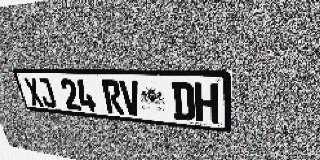2: (59, 78, 82, 110)
4: (74, 79, 97, 112)
D: (171, 82, 195, 121)
H: (194, 82, 219, 123)
J: (35, 78, 57, 108)
R: (101, 80, 124, 114)
V: (119, 80, 142, 116)
X: (23, 77, 45, 107)
